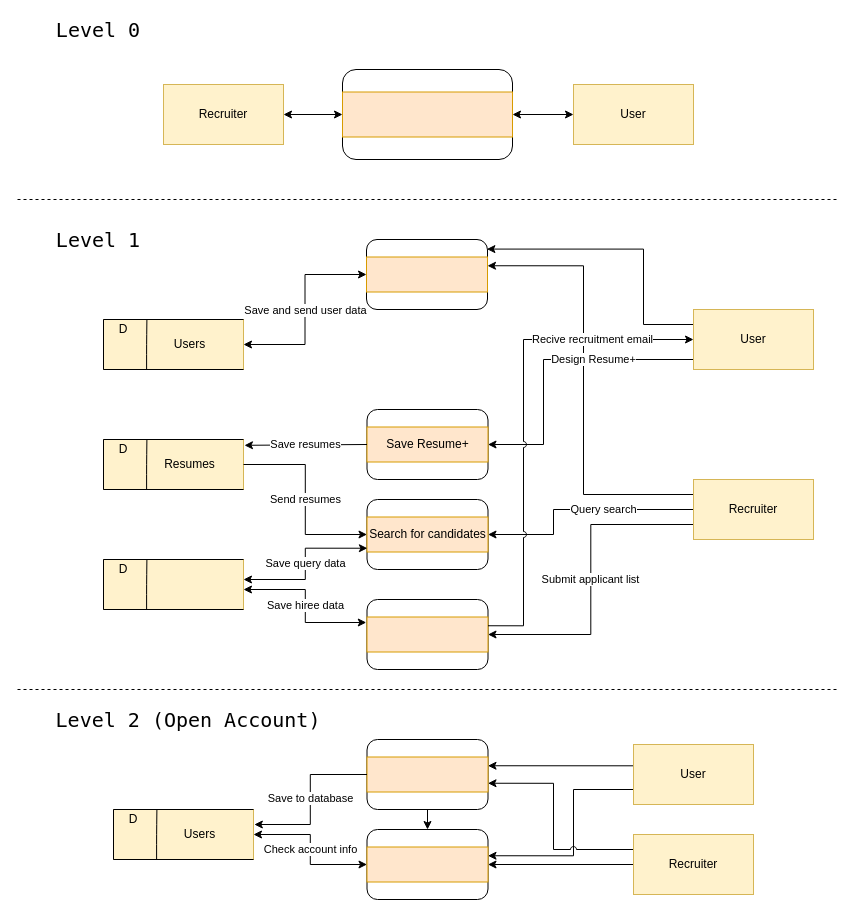
This 856x917 diagram has some shape labels left out. The shapes that lost their labels are listed below. From the top down, each one's centre as x and y in pixels, then its label:
At pixel 427 114: "ResumePlusFlask".
At pixel 427 274: "Open Account".
At pixel 173 584: "Algorithm Data".
At pixel 427 634: "Hire candidate".
At pixel 427 774: "Register".
At pixel 427 864: "Login".
